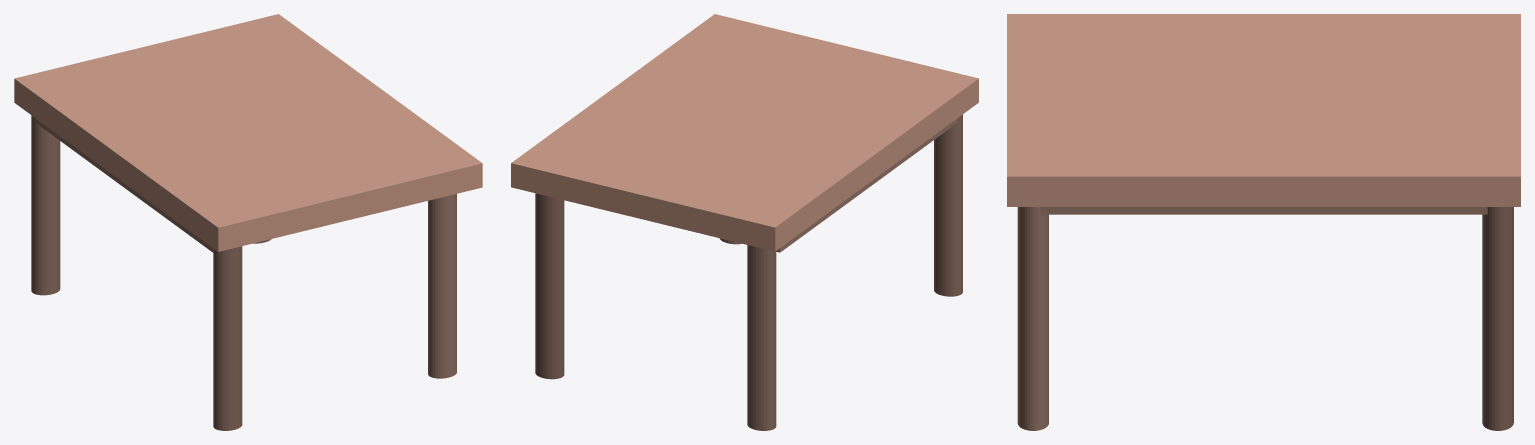
File: Tisch_Bennet_Nico.fbx
The picture shows the model from 3 angles, left to right: view 1: azimuth 30°, elevation 25°; view 2: azimuth 150°, elevation 25°; view 3: azimuth 270°, elevation 25°; orthographic projection. The views are drawn at different scales.
Parts seen in each view (by area): view 1: Cube, Cylinder.003, Cylinder, Cylinder.002, Cube.001; view 2: Cube, Cylinder.001, Cylinder.002, Cylinder.003, Cube.001; view 3: Cube, Cylinder.001, Cylinder, Cube.001.
Part boxes in pixels (bbox=[...]): Cube: bbox=[14, 14, 482, 251]; Cylinder.003: bbox=[213, 246, 242, 430]; Cylinder: bbox=[428, 194, 456, 378]; Cylinder.002: bbox=[31, 115, 60, 295]; Cube.001: bbox=[35, 118, 213, 252]; Cube: bbox=[511, 14, 978, 251]; Cylinder.001: bbox=[535, 193, 564, 379]; Cylinder.002: bbox=[747, 245, 776, 430]; Cylinder.003: bbox=[934, 114, 962, 296]; Cube.001: bbox=[776, 118, 957, 252]; Cube: bbox=[1007, 14, 1520, 206]; Cylinder.001: bbox=[1482, 207, 1513, 430]; Cylinder: bbox=[1017, 207, 1048, 430]; Cube.001: bbox=[1040, 207, 1487, 214].
Size of the model in its own units: 362 by 275 by 484.
